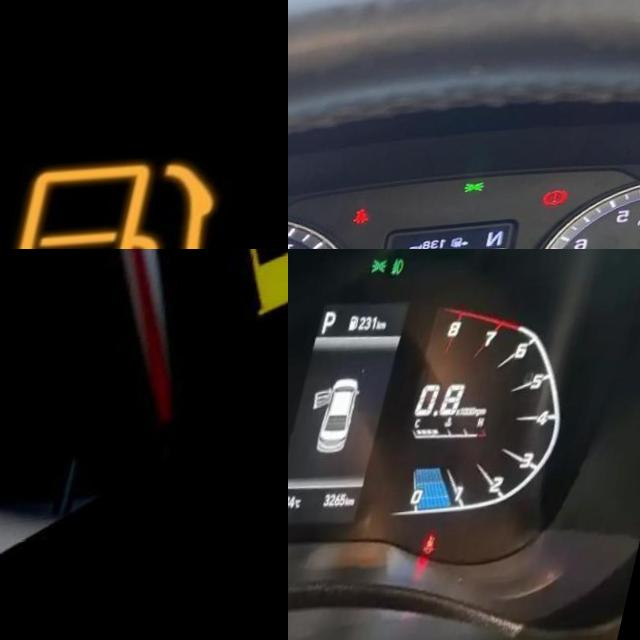Low fuel level: (224, 249, 288, 338)
Seat Belt: (362, 210, 384, 229), (446, 540, 461, 561)
